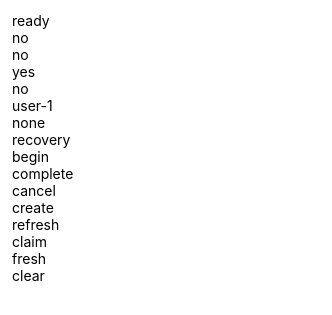
Test: ParentalConsentProvider claim intent › preserves pendingClaimUid and needsFreshConsent across fresh createRequest
This screenshot has width=332, height=315.
Expected: the text with test id "hydrate" reads "ready", x1=12 y1=12 x2=50 y2=29
Expected: the text with test id "fresh" reads "yes", x1=12 y1=63 x2=35 y2=80
Click the text with test id "create-request" at (33, 208), box x1=12 y1=199 x2=54 y2=216
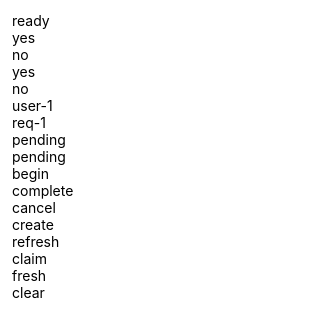
Expected: the text with test id "pending-uid" reads "user-1", x1=12 y1=97 x2=53 y2=114
Expected: the text with test id "request-id" shows "req-", x1=12 y1=114 x2=46 y2=131
